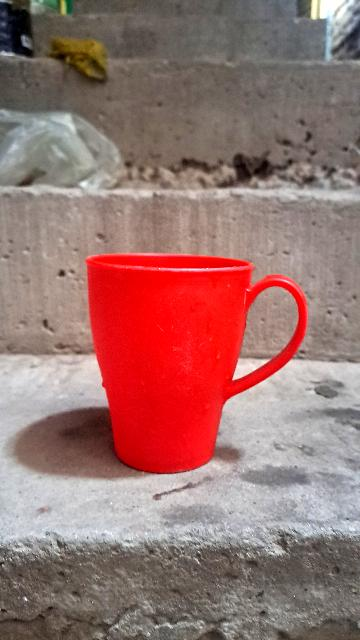hardplastic: (83, 238, 272, 478)
